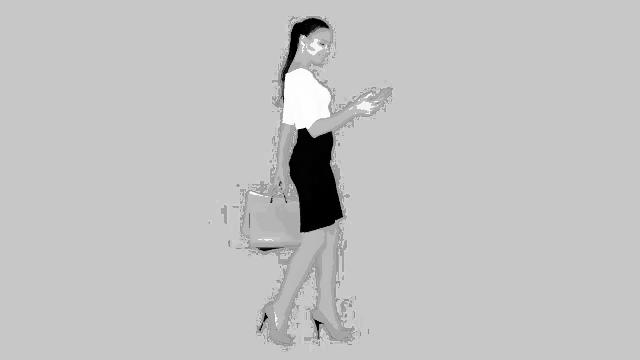berjalan: (246, 14, 384, 348)
